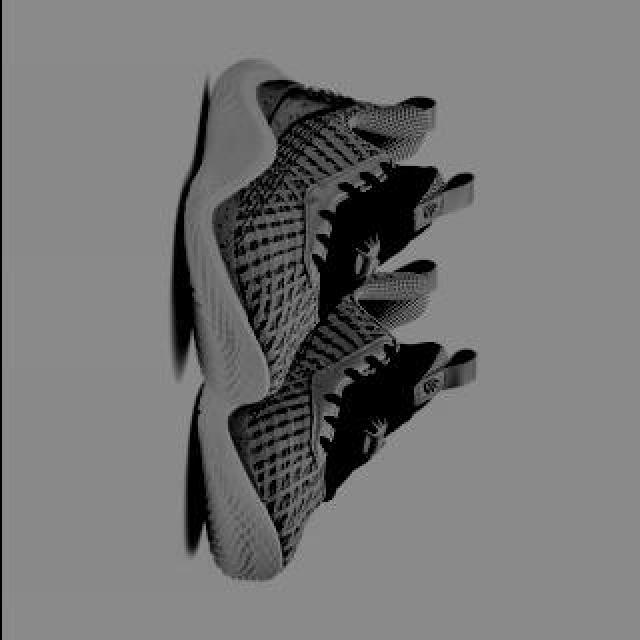shoe: (179, 58, 475, 404), (194, 228, 476, 582)
